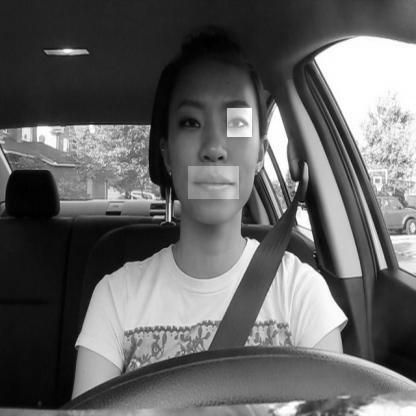seatbelt: (146, 14, 290, 348)
